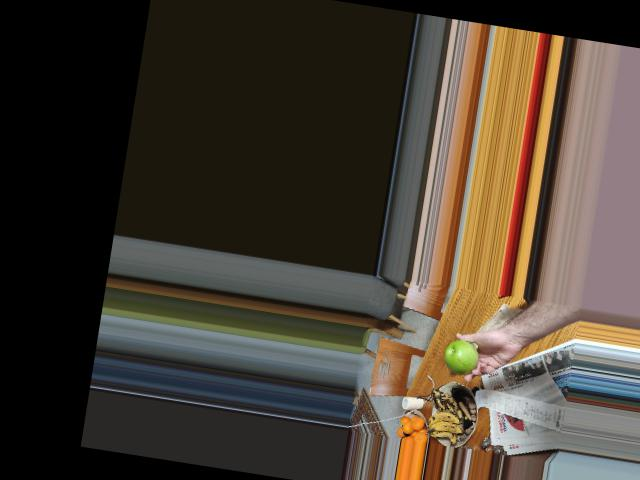apple: (440, 337, 480, 376)
